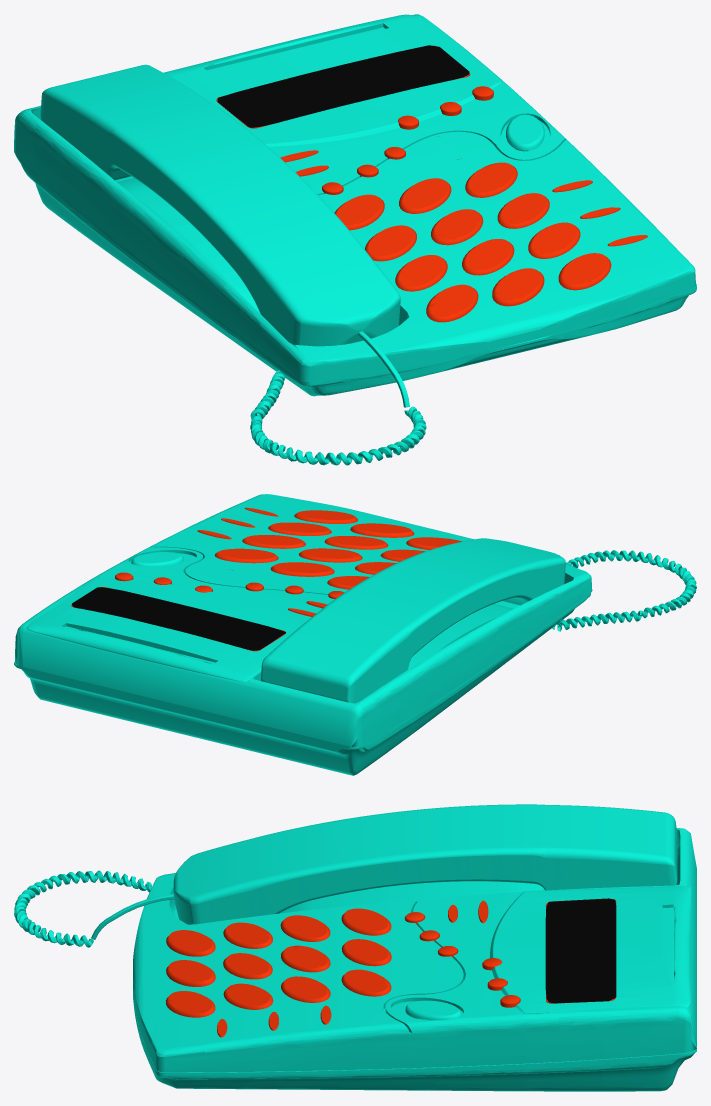
Rendered from TelePhoneWithTex.fbx.
3 renders of one model, top to bottom at view 1: azimuth 30°, elevation 25°; view 2: azimuth 150°, elevation 25°; view 3: azimuth 270°, elevation 25°, orthographic. The views are drawn at different scales.
Parts seen in each view (by area): view 1: Base, Button3; view 2: Base, Button3; view 3: Base, Button3.
Boxes of the visible parts, x1=… form: Base: x1=14, y1=14, x2=696, y2=465; Button3: x1=216, y1=45, x2=647, y2=322; Base: x1=14, y1=494, x2=696, y2=775; Button3: x1=71, y1=507, x2=462, y2=651; Base: x1=14, y1=804, x2=696, y2=1091; Button3: x1=166, y1=898, x2=616, y2=1037.
Size of the model in its own units: 22.75 by 5.76 by 29.77.
